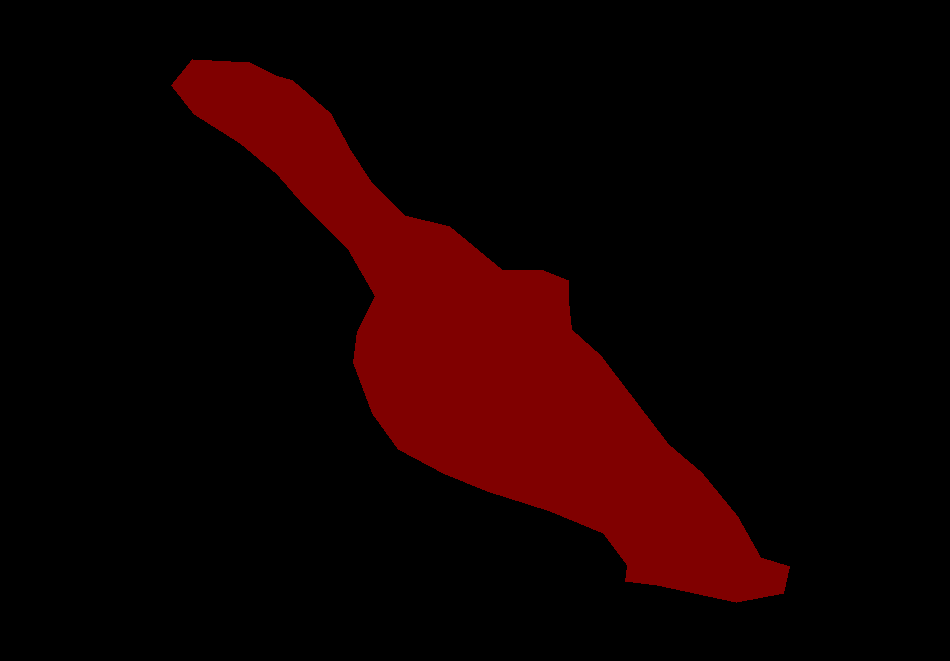fire: (171, 59, 789, 602)
